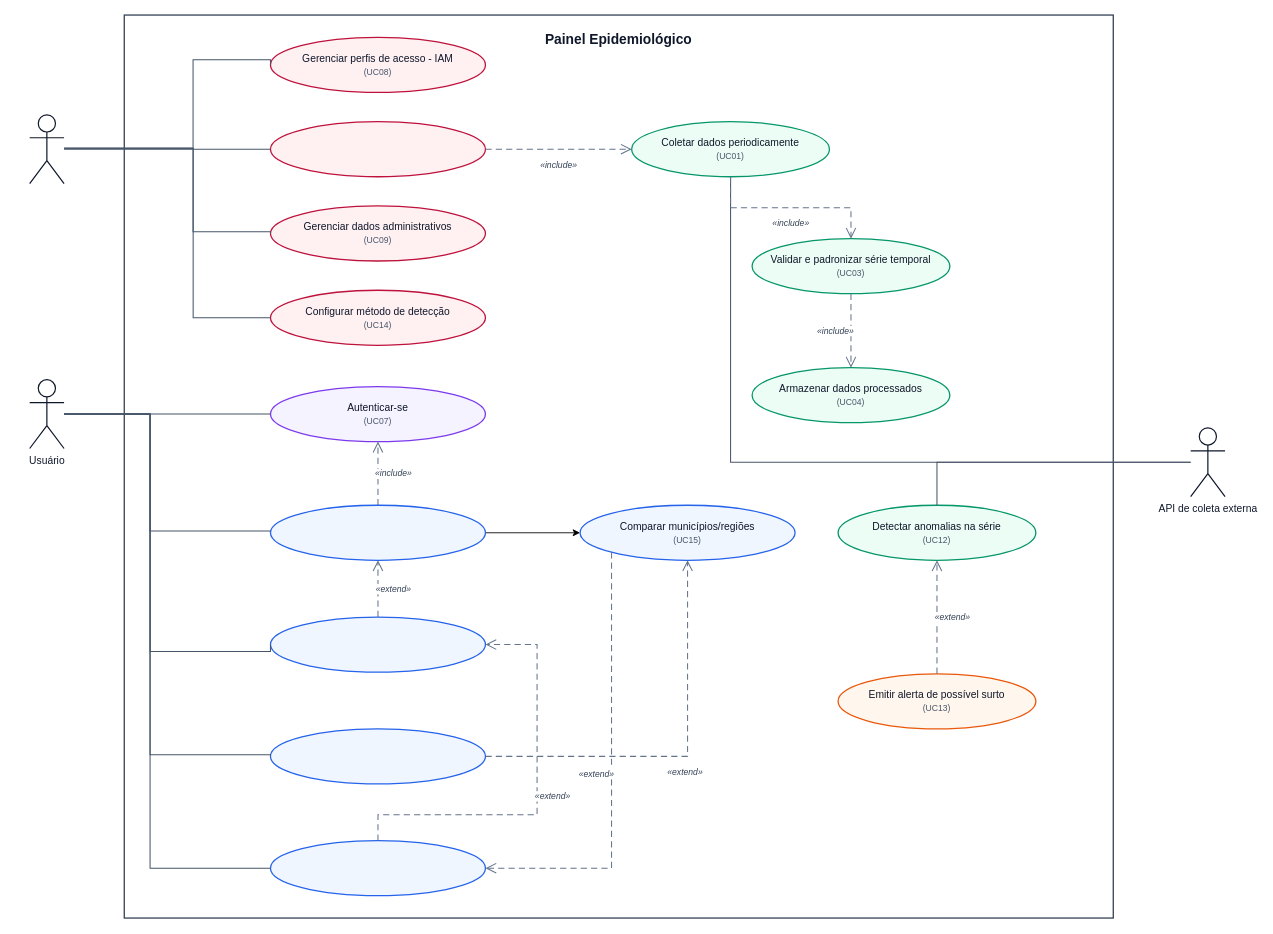
The diagram is 1273 pixels wide and 934 high, and some of its shapes have lost their labels. The shapes that lost their labels are listed below. From the top down, each one's box as (x1, y1, x2, y2) in pixels, then its label:
(29, 114, 64, 184): Administrador
(269, 121, 486, 177): Cadastrar fontes de dados (UC02)
(269, 504, 486, 561): Consultar indicadores (UC06)
(269, 616, 486, 672): Filtrar indicadores (UC05)
(269, 728, 486, 784): Exportar dados/indicadores (UC10)
(269, 840, 486, 896): Visualizar série histórica (UC11)
